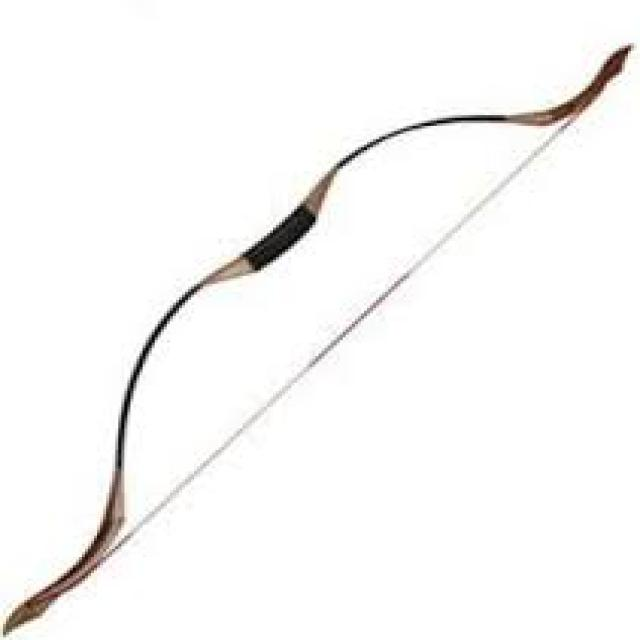X-Bow: (0, 40, 631, 631)
